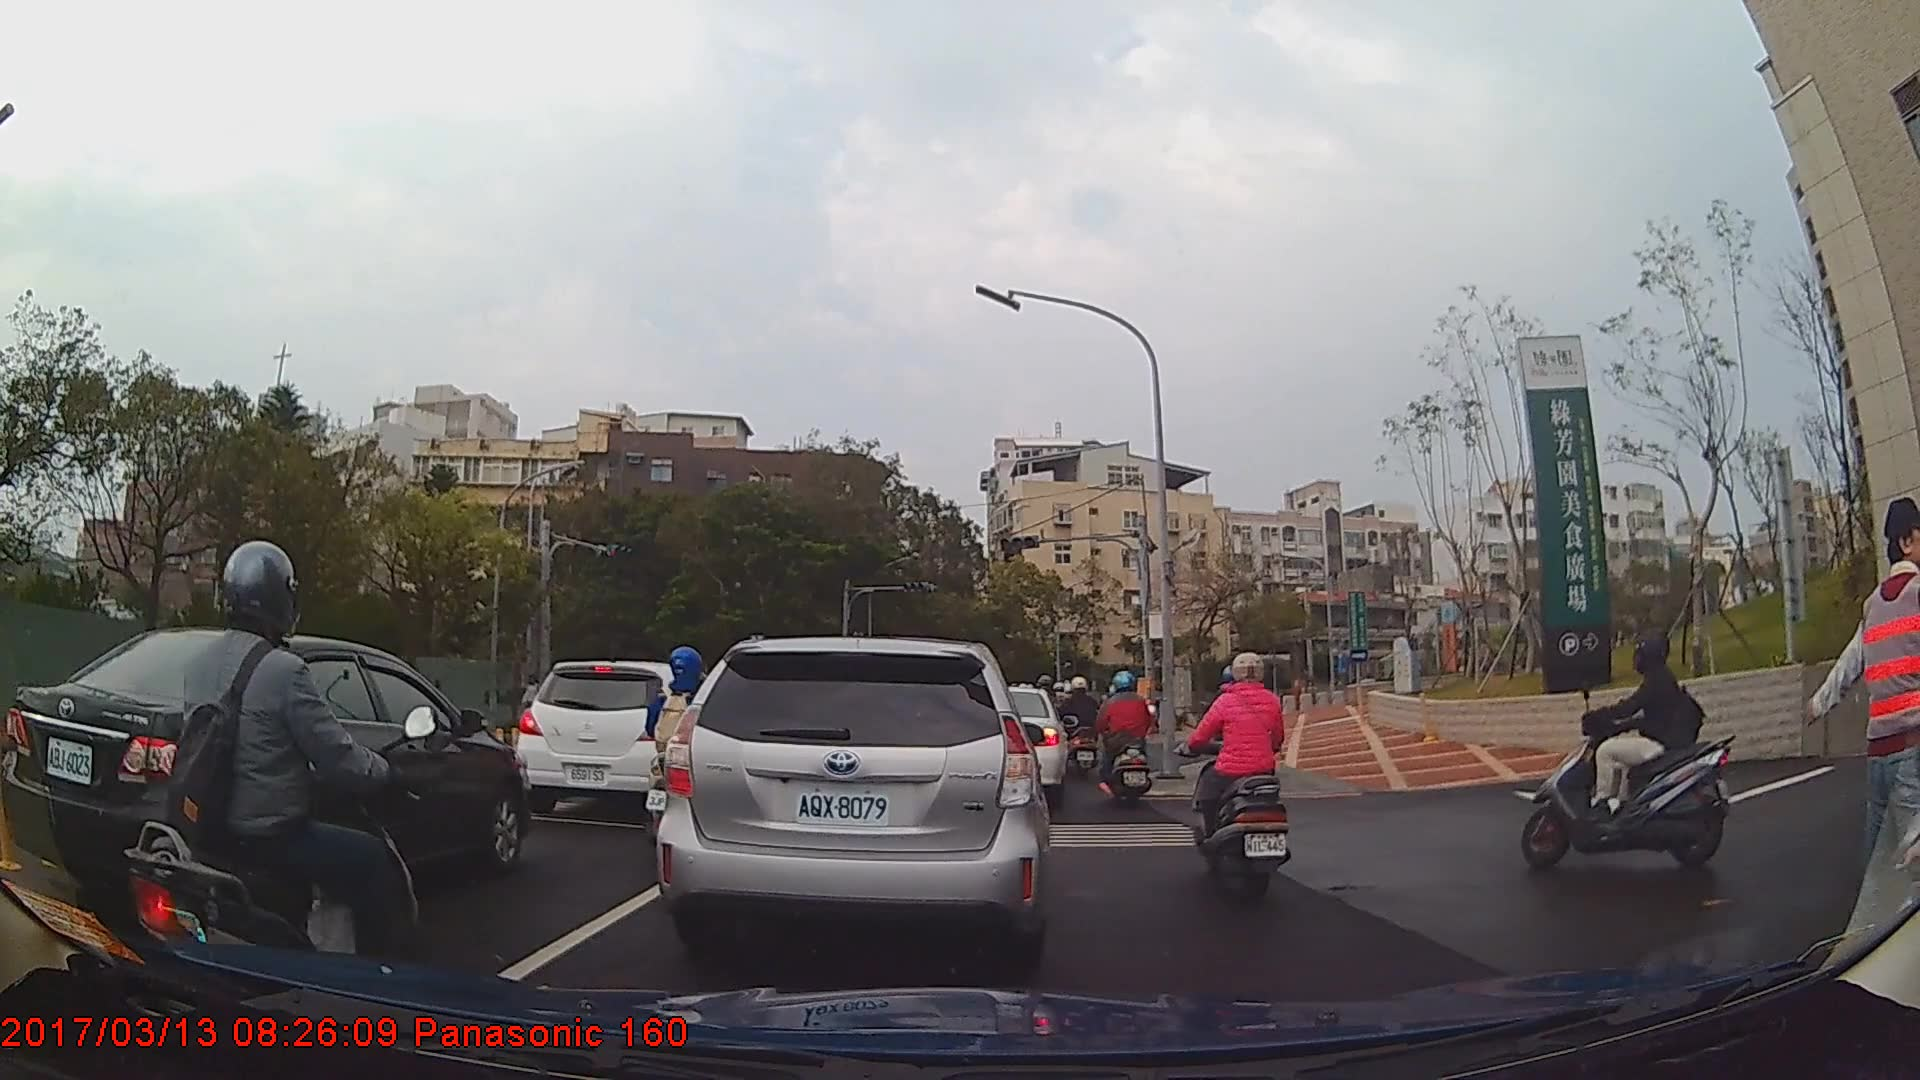pedestrian: (1803, 494, 1920, 979)
rider: (120, 544, 435, 1037), (1520, 639, 1738, 870), (1181, 649, 1290, 900), (644, 642, 722, 855), (1095, 668, 1160, 818), (1065, 674, 1106, 781)
vehicle: (4, 627, 528, 923), (652, 634, 1053, 954), (514, 659, 728, 817), (962, 685, 1069, 801)
